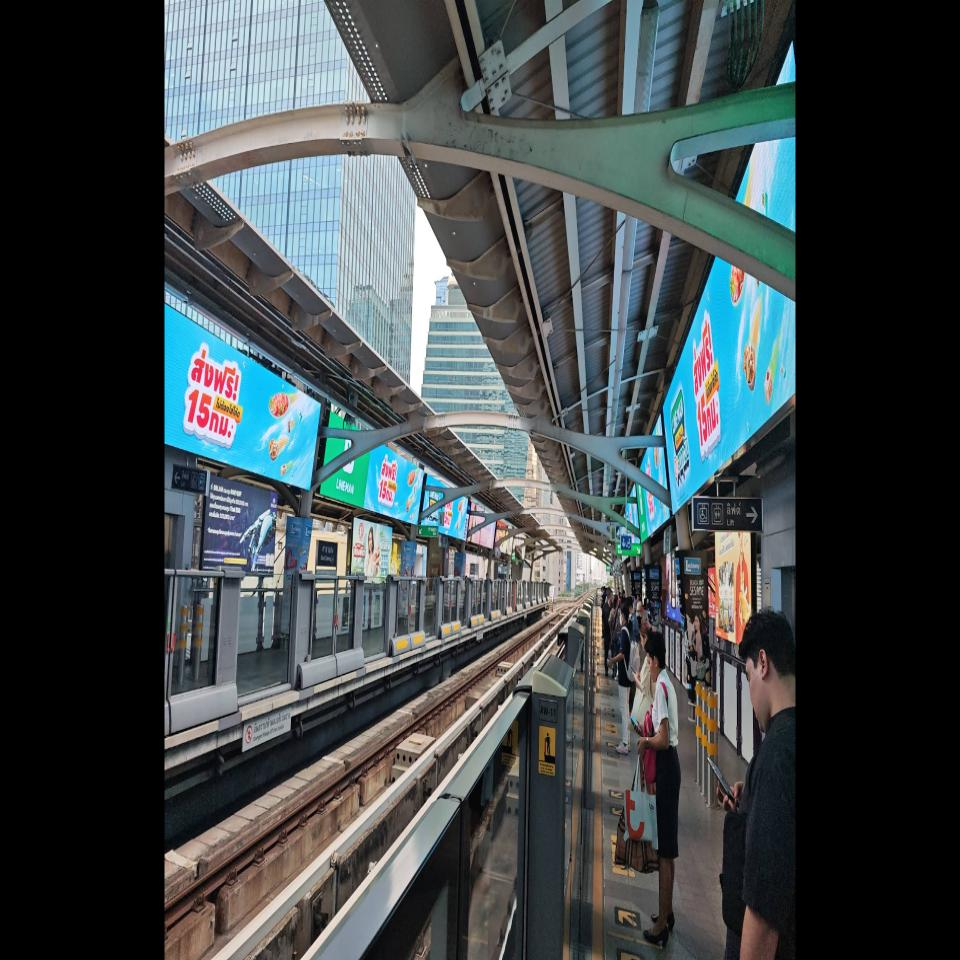signage: (316, 540, 338, 568)
